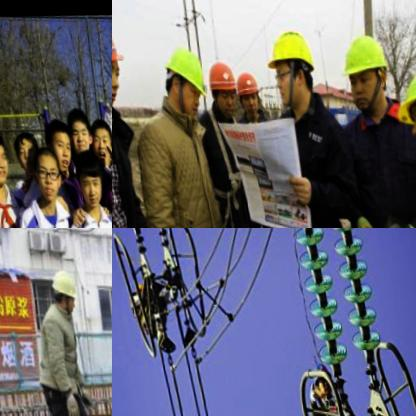head: (68, 149, 103, 209), (28, 142, 63, 201), (42, 117, 71, 169), (84, 113, 112, 165), (63, 101, 90, 153), (10, 126, 40, 172), (0, 118, 9, 183)
helmet: (258, 16, 322, 117), (335, 19, 394, 112), (157, 35, 210, 122), (203, 52, 241, 121), (393, 54, 416, 149), (112, 0, 128, 113), (233, 64, 265, 117), (47, 263, 79, 314), (307, 354, 336, 396)
